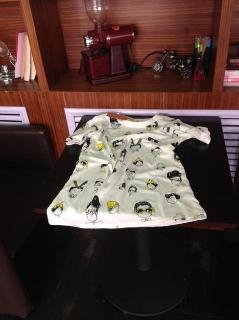short sleeve dress: (47, 112, 211, 229)
